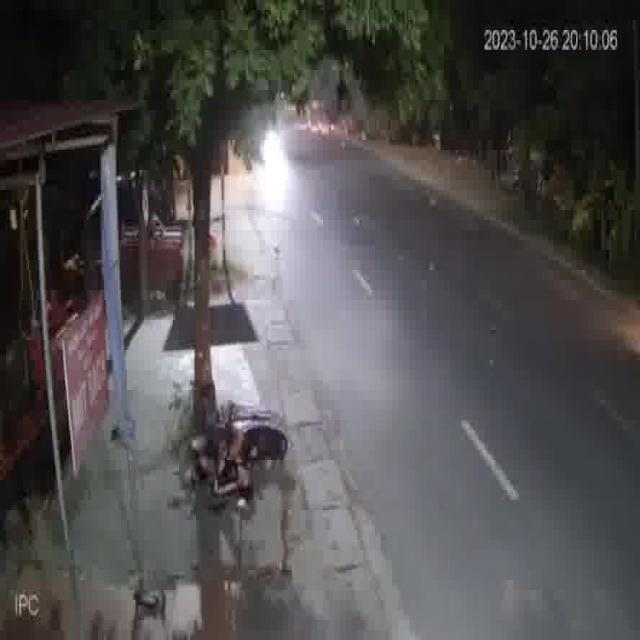multiple_accident: (168, 380, 297, 527)
